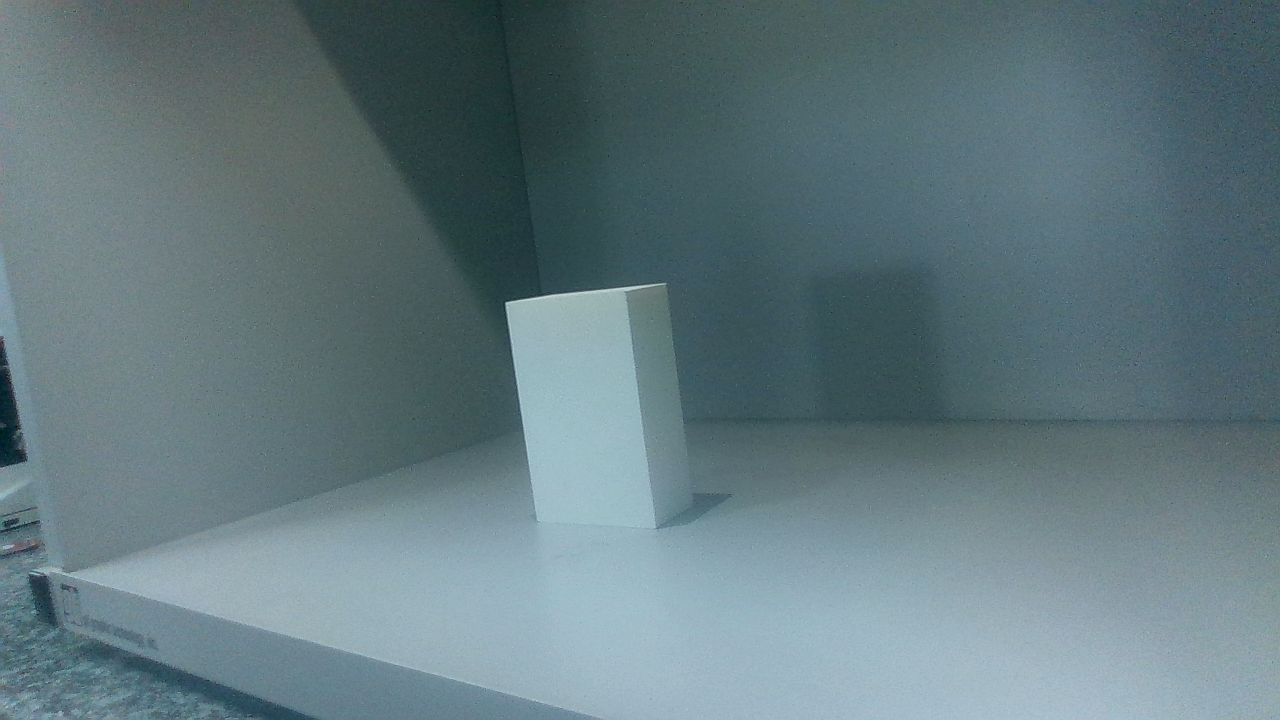Retangulo: (506, 283, 685, 532)
